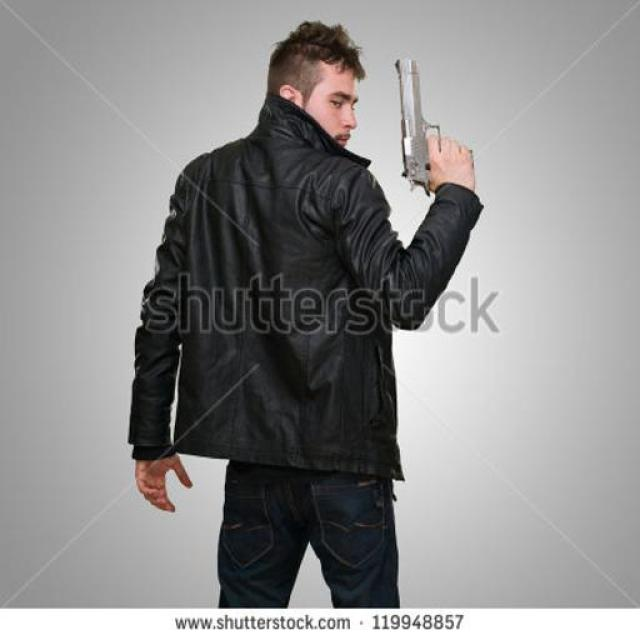pistol: (389, 56, 480, 190)
